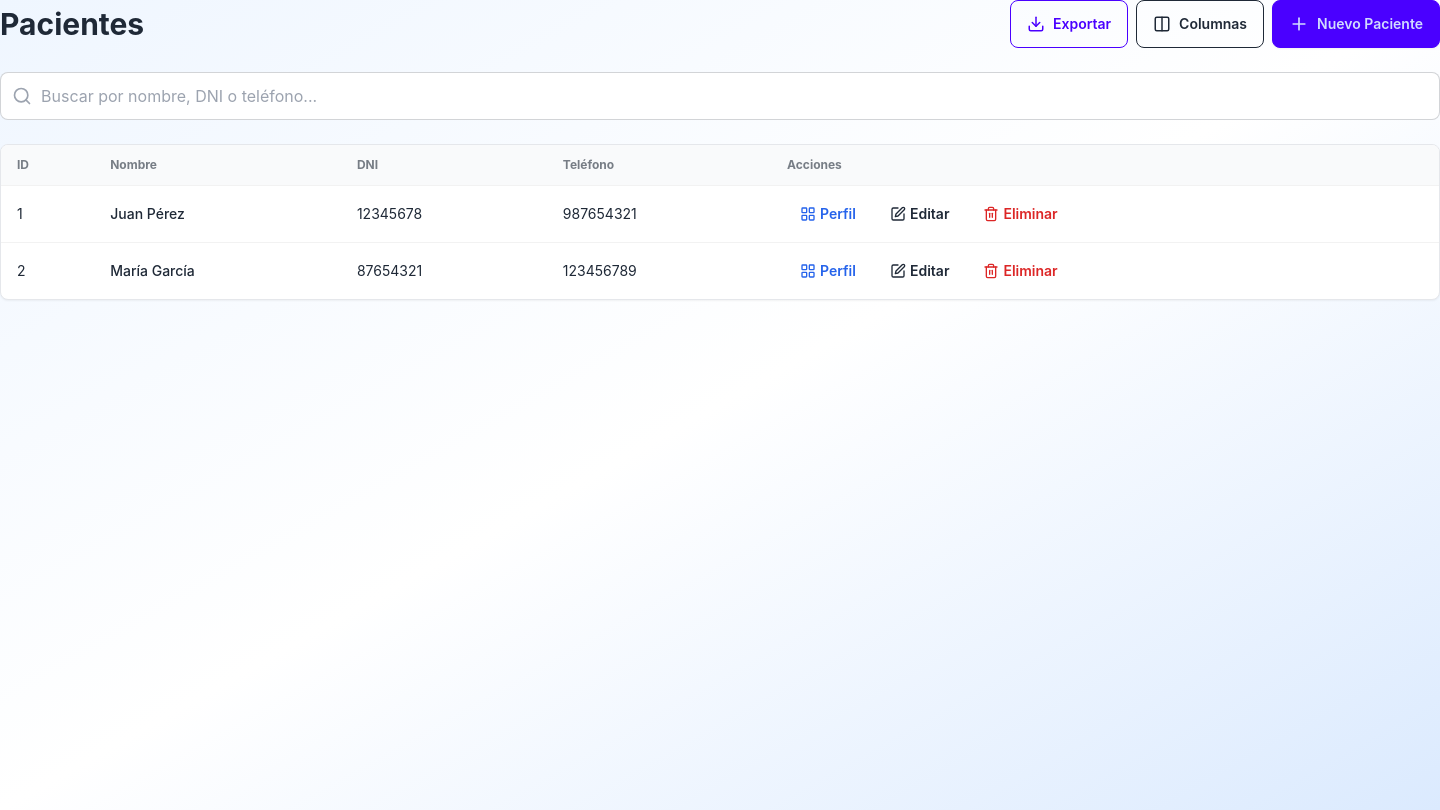
Pacientes Component › abre el modal para crear nuevo paciente
Expected: the text "Juan Pérez" is shown, [94,186,341,242]
Click the button "Nuevo Paciente" at (1356, 24), box [1272,0,1439,48]
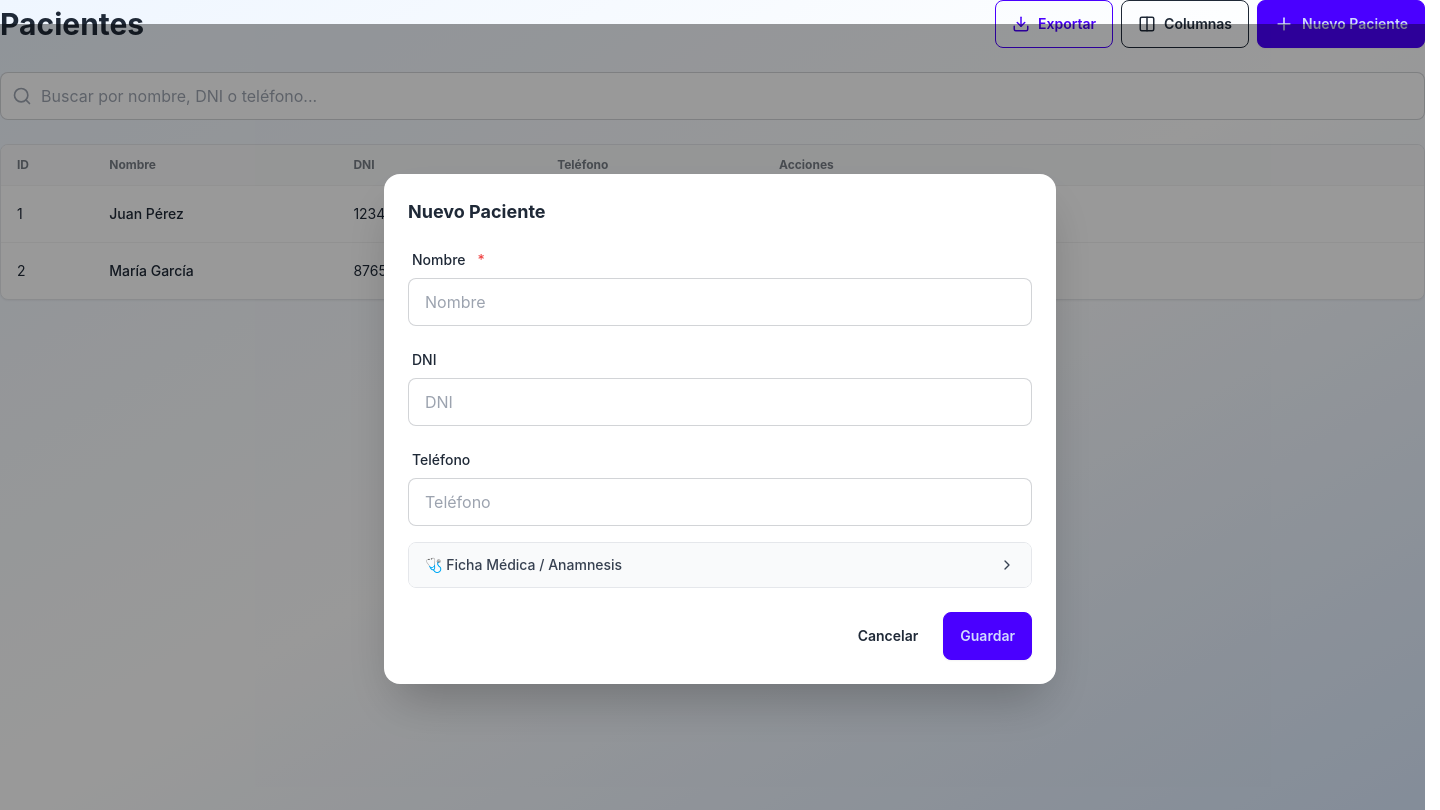
Expected: the heading "Nuevo Paciente" is shown, [408,201,546,222]
